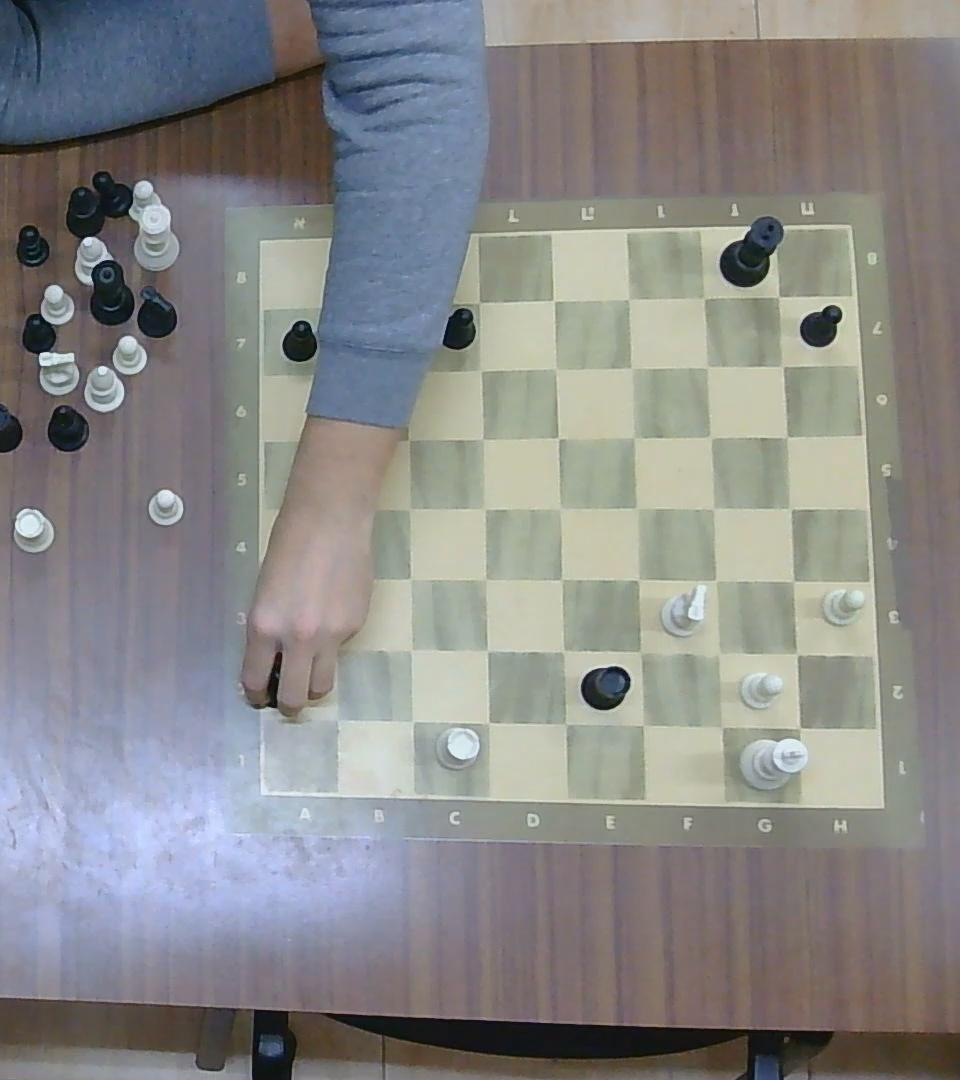xcorner: (781, 710, 815, 744), (703, 708, 737, 742), (701, 636, 735, 669), (384, 286, 416, 321), (471, 705, 503, 739), (318, 561, 350, 595), (626, 707, 658, 740), (621, 562, 653, 594), (548, 706, 580, 738), (780, 637, 813, 668), (625, 635, 656, 667), (470, 562, 501, 594), (389, 352, 421, 383), (319, 632, 350, 663), (304, 293, 335, 324), (397, 704, 427, 736), (471, 634, 501, 665), (698, 492, 728, 523), (699, 565, 730, 595), (321, 703, 351, 734), (621, 492, 651, 523), (776, 565, 807, 595), (324, 492, 354, 523), (395, 634, 425, 664), (548, 636, 578, 666), (615, 283, 645, 313), (618, 351, 648, 381), (548, 563, 577, 594), (545, 492, 574, 523), (539, 283, 568, 314), (542, 352, 571, 383), (464, 286, 493, 317), (395, 563, 424, 593), (776, 493, 806, 522), (470, 493, 499, 522), (620, 422, 649, 451), (465, 353, 494, 382), (394, 493, 423, 522), (544, 422, 573, 451), (394, 422, 423, 451), (691, 282, 720, 311), (765, 282, 794, 311), (467, 422, 495, 451), (693, 351, 721, 380), (769, 351, 797, 380), (772, 421, 801, 448), (314, 427, 343, 453), (698, 423, 725, 450), (308, 362, 331, 388)
